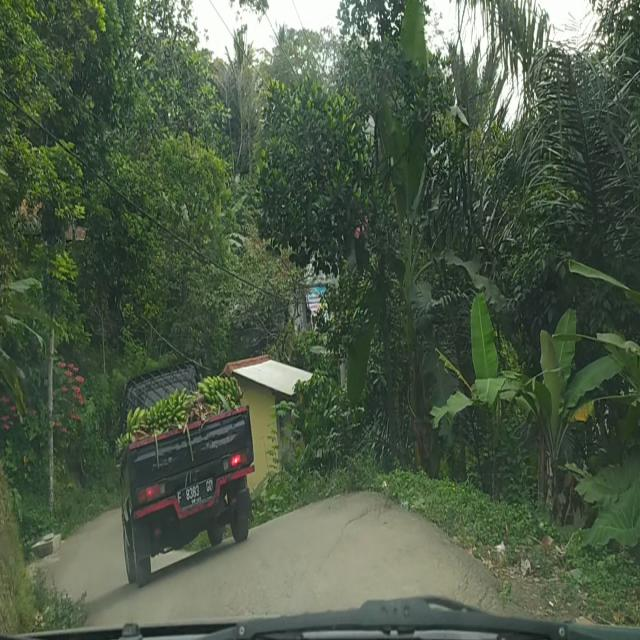Drain Hole: (343, 492, 394, 534)
